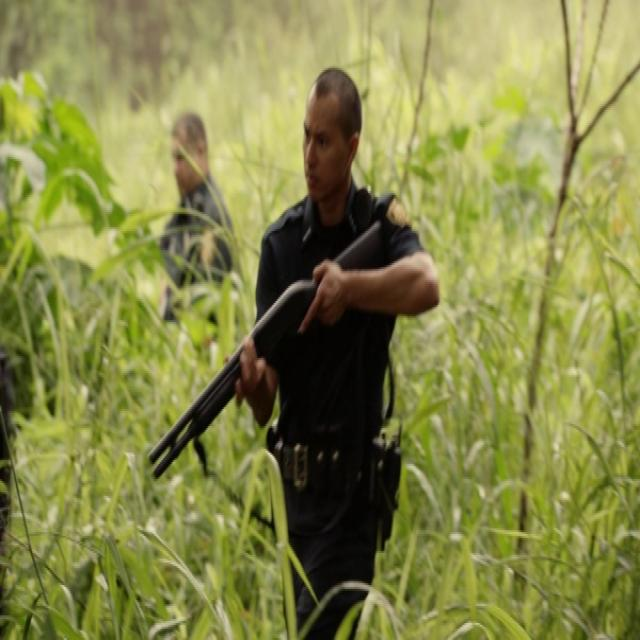rifle: (144, 213, 394, 491)
